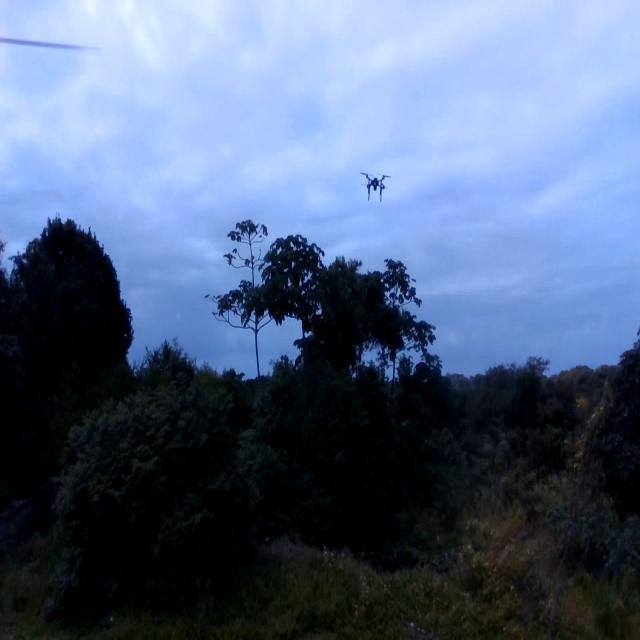-uav-: (358, 160, 392, 209)
